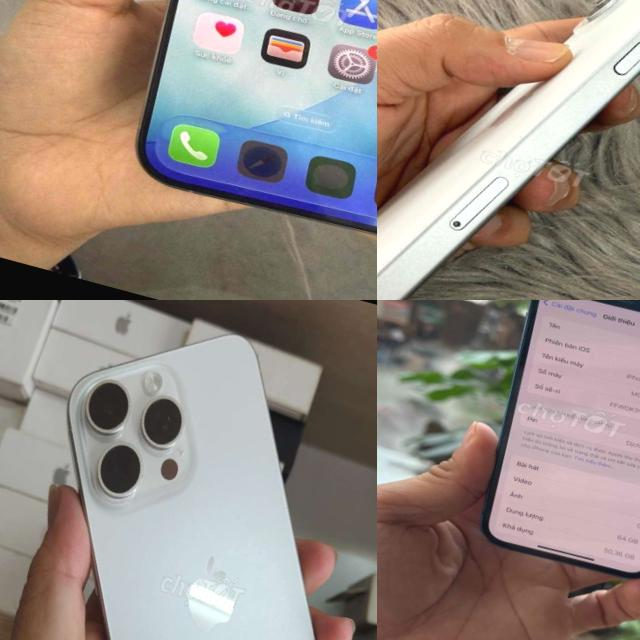gen_12_13: (457, 300, 640, 594)
gen_15: (0, 300, 377, 640), (377, 0, 640, 300), (84, 0, 377, 269)
